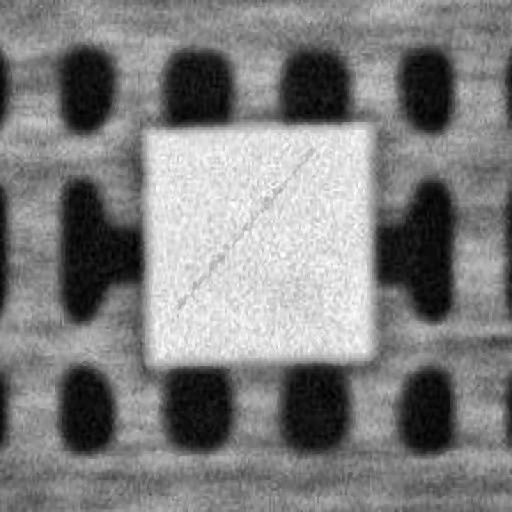DIE_CRACK: (263, 97, 467, 204)
